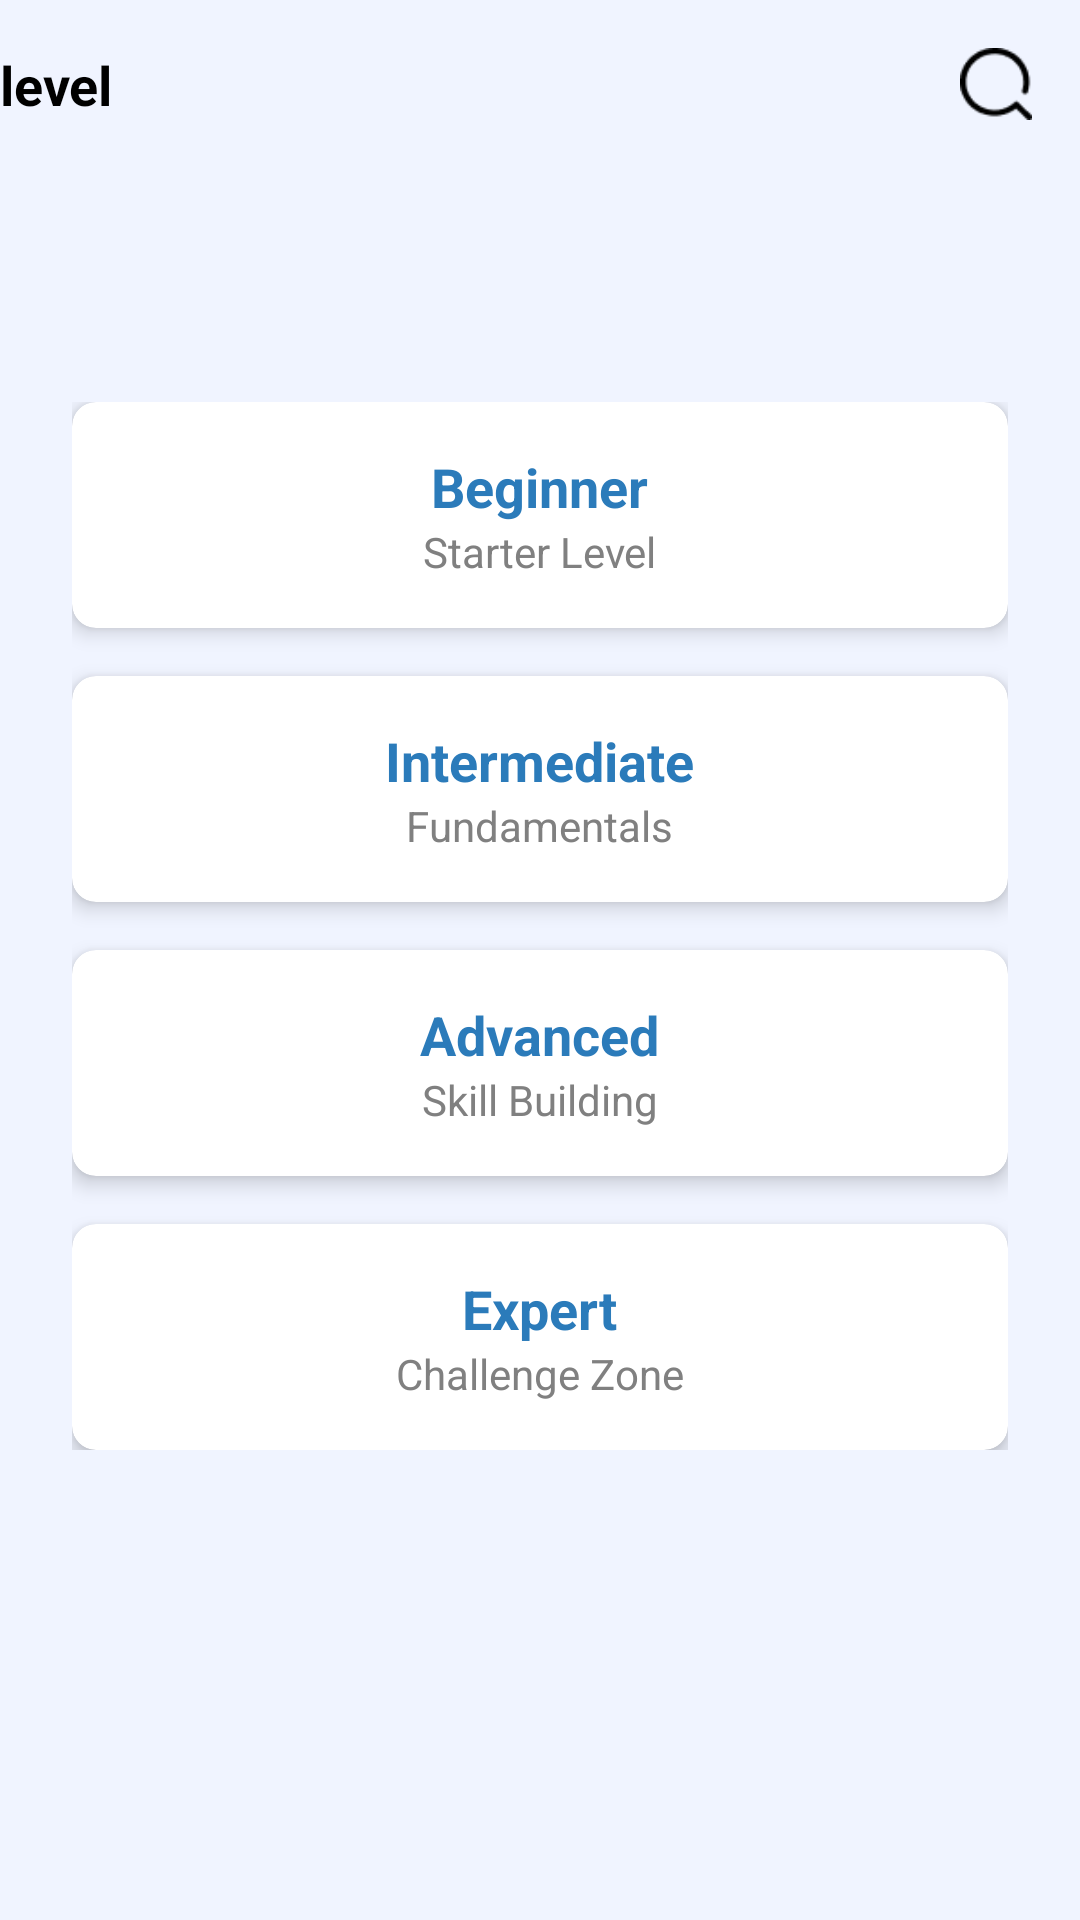

Locate icon controls on the screen. Image size 1080px×1920px, boxes as (x1, y1, x2, y2).
Search: (960, 48, 1032, 120)
